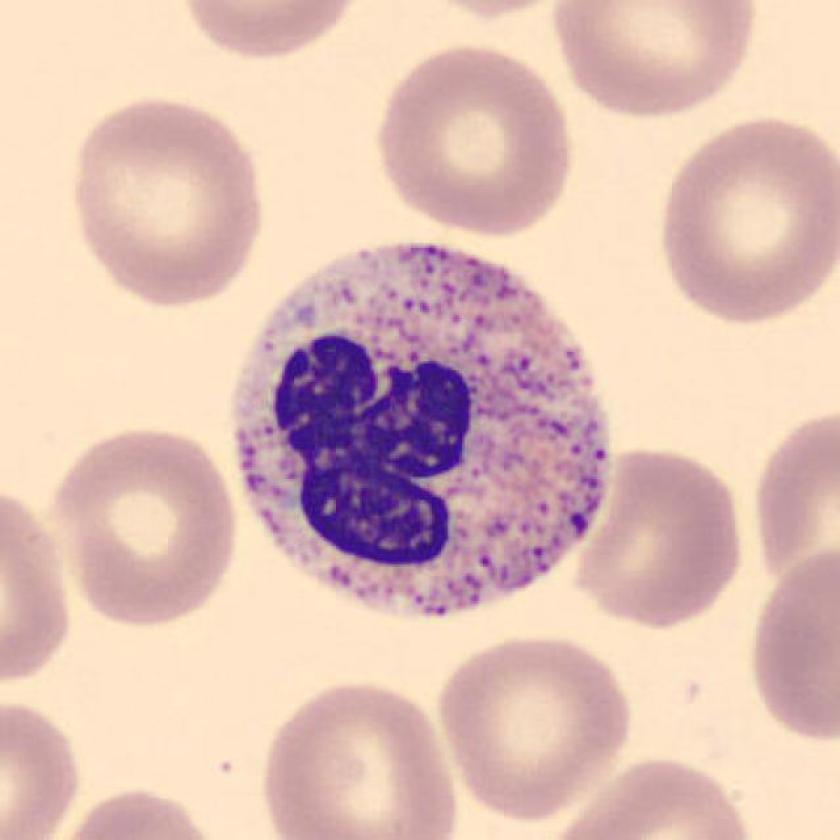neutrophil: (233, 244, 613, 618)
